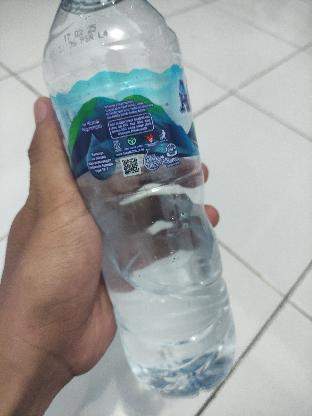Plastic Bottle: (37, 0, 242, 398)
